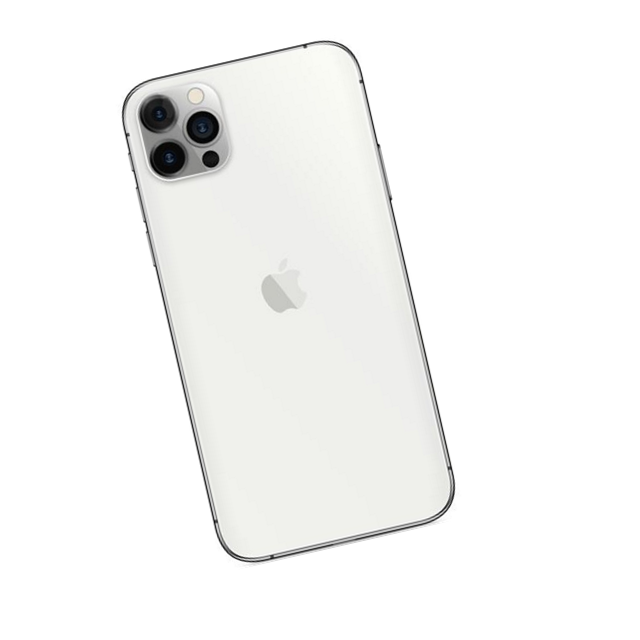iphone_12pro_silver: (97, 34, 470, 561), (128, 83, 242, 183)
